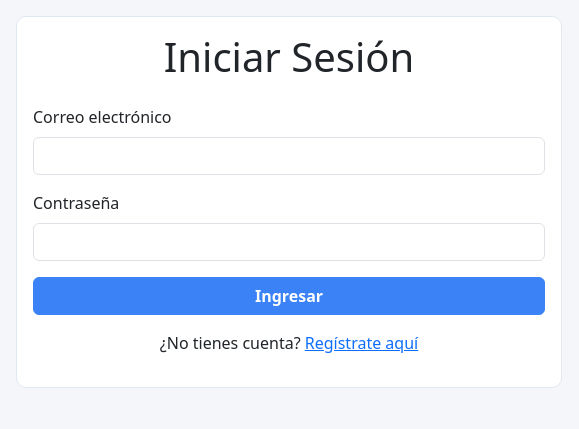
Test: Login › con userEvent: escribir un correo inválido y presionar Ingresar muestra el error
Type "ana" into the field labelled "Correo electrónico" at (289, 156), box [33,137,545,175]
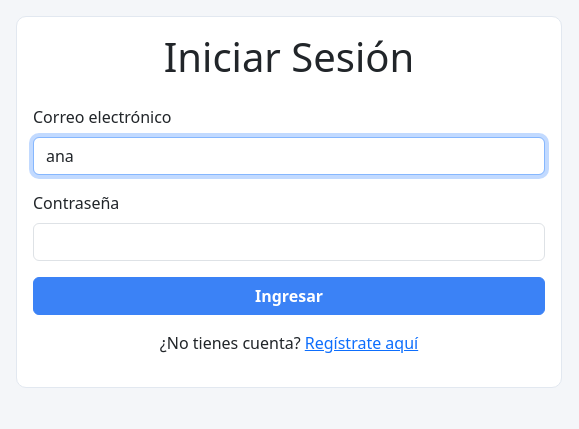
Type "1234" into the password field labelled "Contraseña" at (289, 242), box [33,223,545,261]
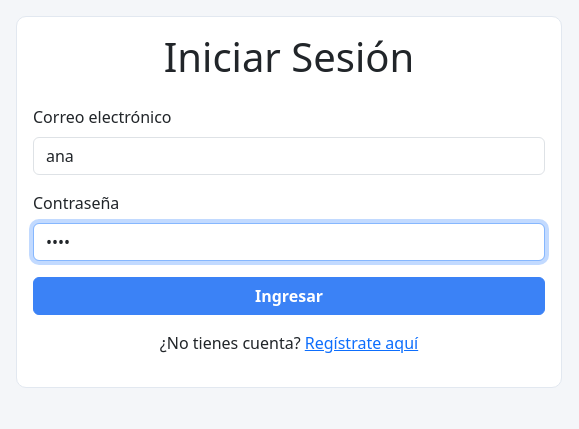
Click the button "Ingresar" at (289, 296), box [33,277,545,315]
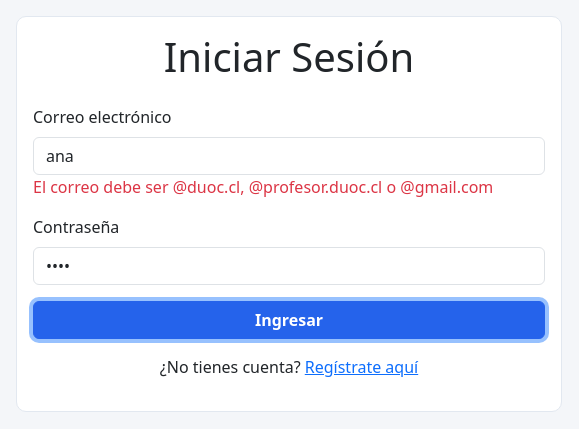
Expected: the text "El correo debe ser @duoc.cl, @profesor.duoc.cl o @gmail.com" is shown, [33,175,545,199]
